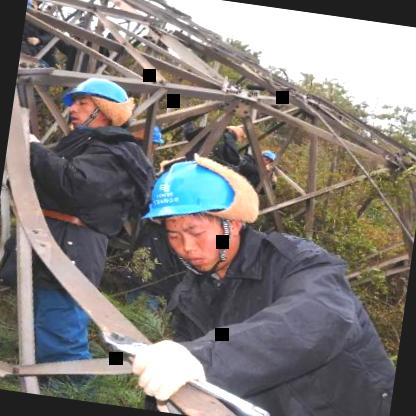helmet: (130, 146, 259, 278), (56, 68, 137, 135)
